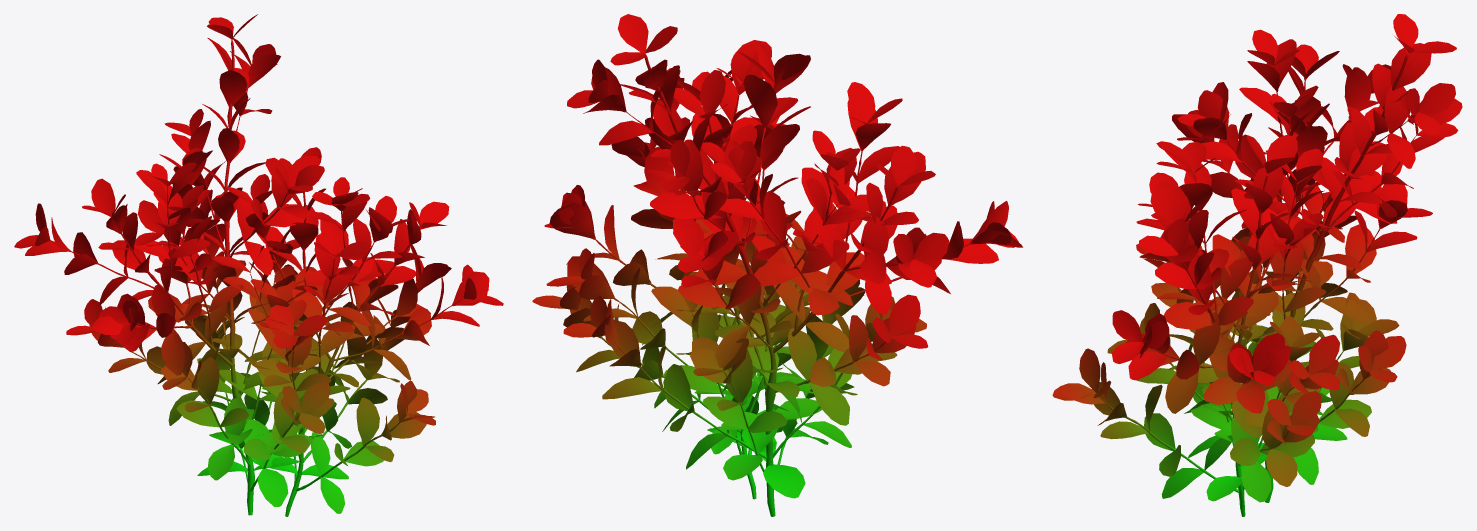
File: Var10_LOD0.fbx
The picture shows the model from 3 angles, left to right: view 1: azimuth 30°, elevation 25°; view 2: azimuth 150°, elevation 25°; view 3: azimuth 270°, elevation 25°; orthographic projection. The views are drawn at different scales.
Parts seen in each view (by area): view 1: _18mk_Var10_LOD0; view 2: _18mk_Var10_LOD0; view 3: _18mk_Var10_LOD0.
Boxes of the visible parts, x1,y1,x2,y2 form: _18mk_Var10_LOD0: [14, 14, 503, 516]; _18mk_Var10_LOD0: [532, 14, 1022, 516]; _18mk_Var10_LOD0: [1052, 14, 1462, 516].
Size of the model in its own units: 15.63 by 17.71 by 13.15.
